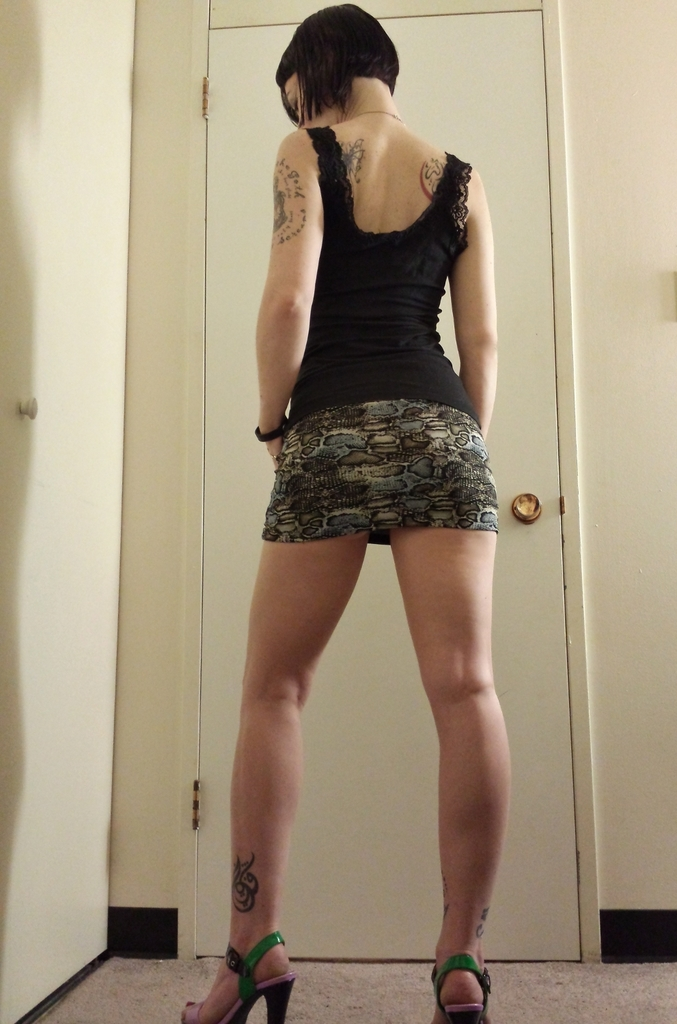Human_hand: (267, 434, 284, 466)
